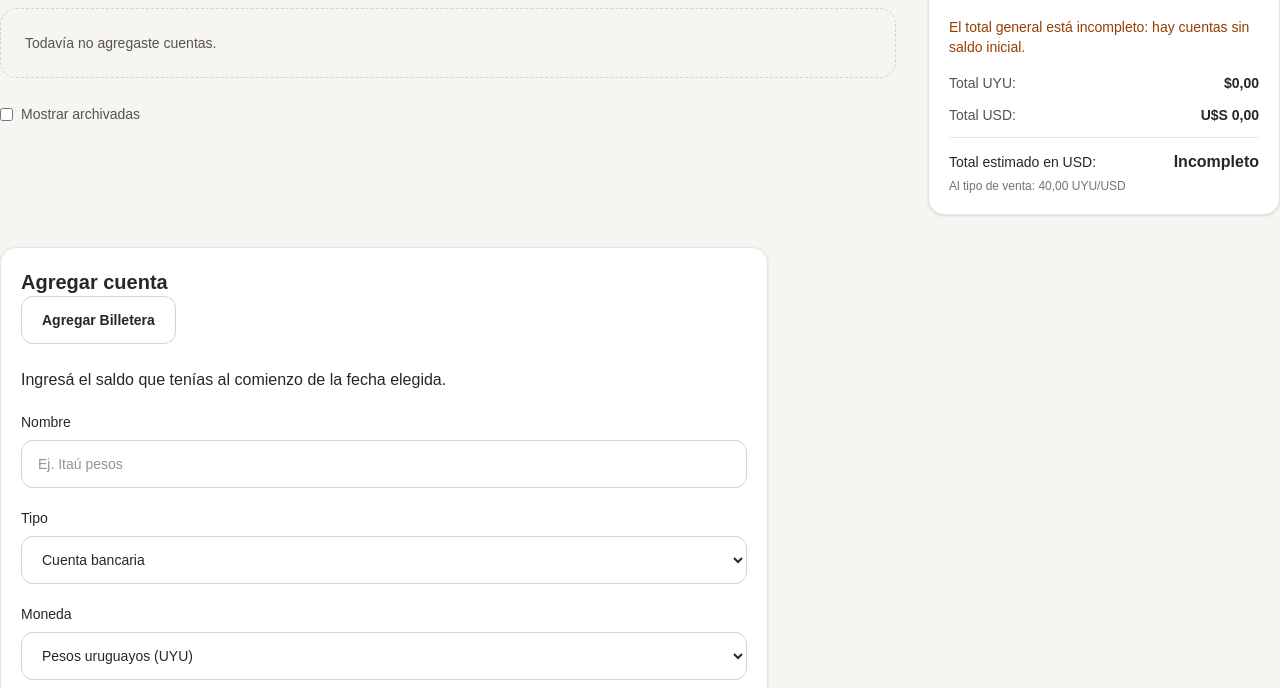
Test: gestión de cuentas › ofrece preparar la cuenta Billetera en pesos sin inventar su saldo
Click the button "Agregar Billetera".
click(98, 320)  # box 21,296 -> 176,344
(page scrolled)
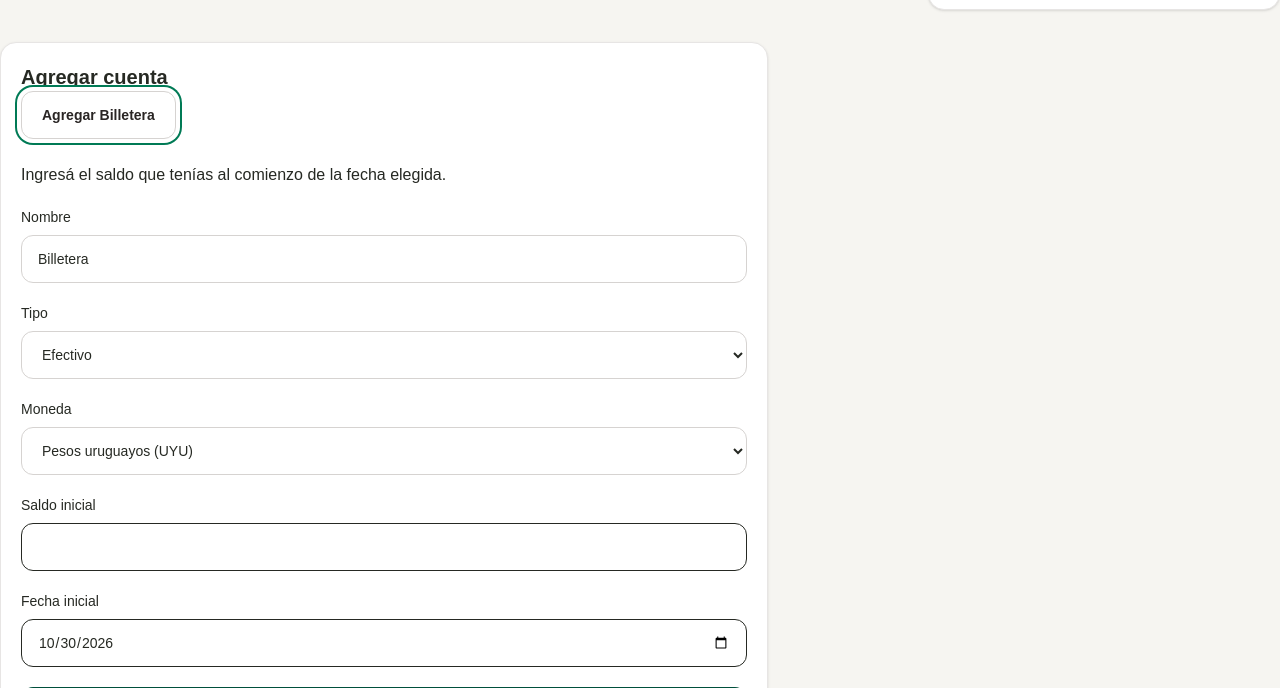
Expected: the field labelled "Saldo inicial" is empty, 21,523 -> 747,571
Expected: the field labelled "Nombre" holds "Billetera", 21,235 -> 747,283
Expected: the dropdown labelled "Tipo" shows "Efectivo", 21,331 -> 747,379
